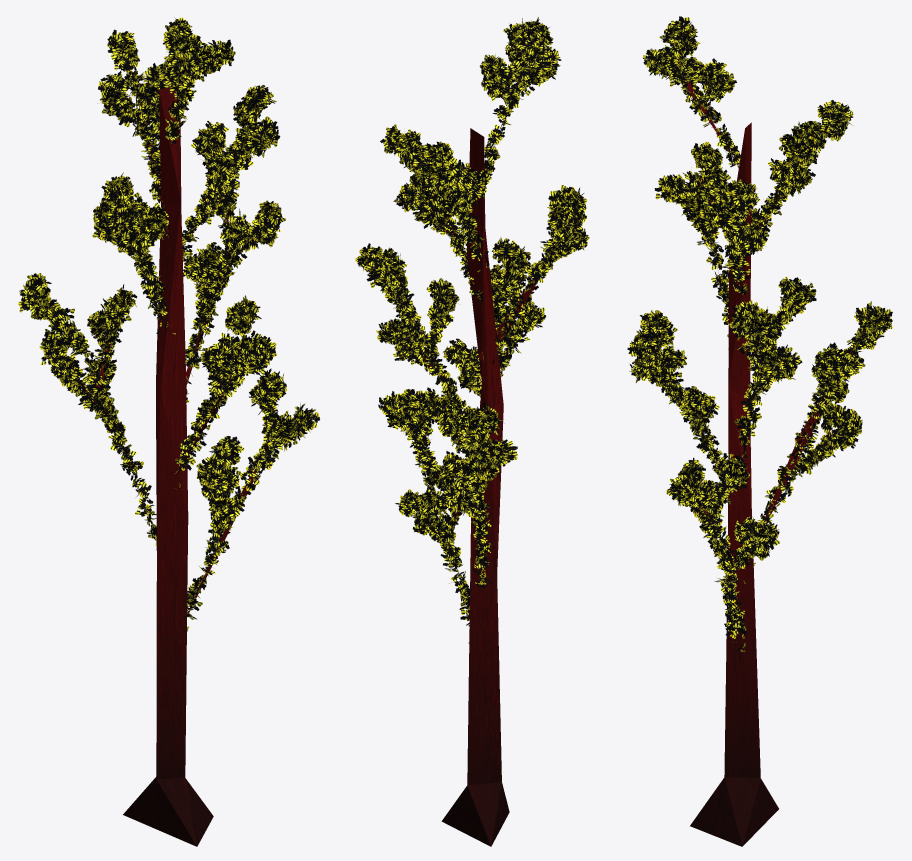
The model's file is baldcypress_v03_LOD1.glb.
The picture shows the model from 3 angles, left to right: view 1: azimuth 30°, elevation 25°; view 2: azimuth 150°, elevation 25°; view 3: azimuth 270°, elevation 25°; orthographic projection. The views are drawn at different scales.
Parts seen in each view (by area): view 1: baldcypress_v03_LOD1; view 2: baldcypress_v03_LOD1; view 3: baldcypress_v03_LOD1.
Boxes of the visible parts, x1,y1,x2,y2 form: baldcypress_v03_LOD1: (18, 17, 319, 846); baldcypress_v03_LOD1: (355, 17, 589, 846); baldcypress_v03_LOD1: (627, 16, 892, 846).
Bounding box in the file's own units: 8.67 × 31.85 × 9.92.
2 materials, 2 textured.
